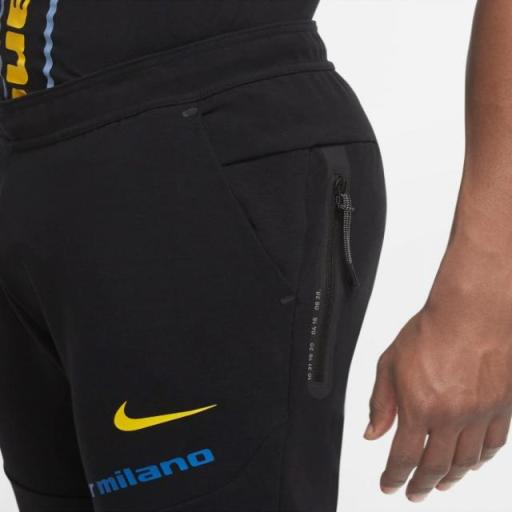Nike: (104, 395, 222, 434)
